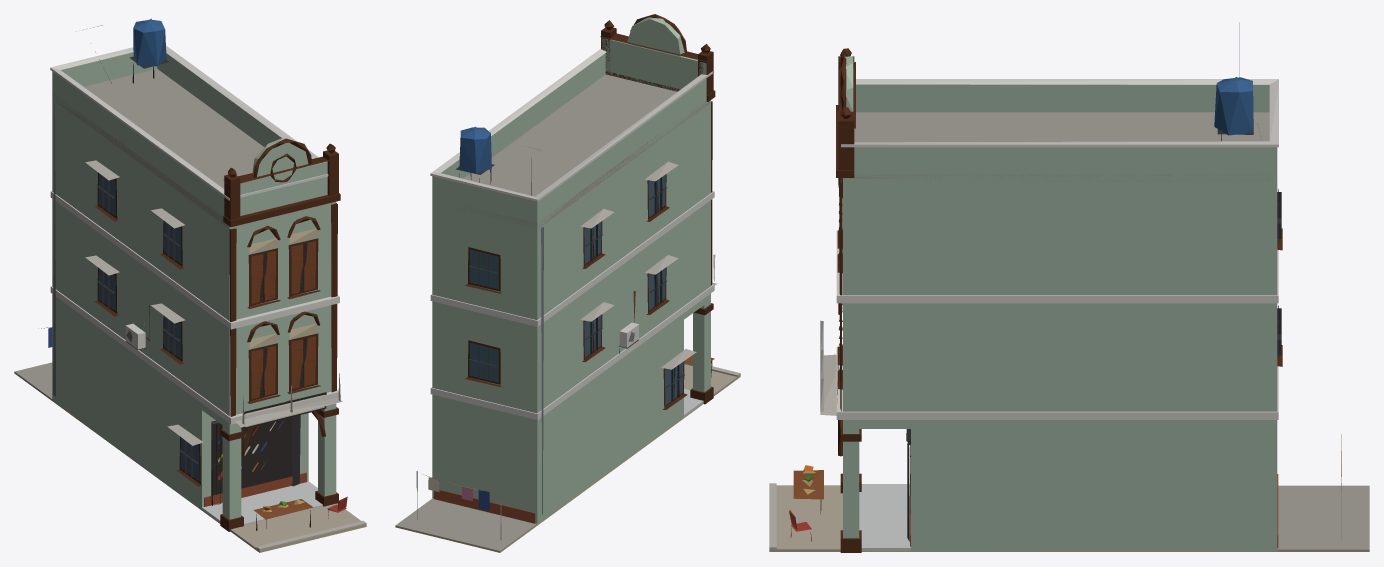
Rendered from bay2_left.glb.
3 renders of one model, left to right at view 1: azimuth 30°, elevation 25°; view 2: azimuth 150°, elevation 25°; view 3: azimuth 270°, elevation 25°, orthographic. The views are drawn at different scales.
Parts seen in each view (by area): view 1: body, windows; view 2: body, windows; view 3: body.
Part boxes in pixels (x1,y1,x2,y2): body: (14, 18, 366, 552); windows: (98, 173, 316, 495); body: (395, 14, 740, 552); windows: (469, 174, 683, 405); body: (769, 22, 1369, 552).
Bounding box in the file's own units: 4.48 × 14.06 × 15.9.
